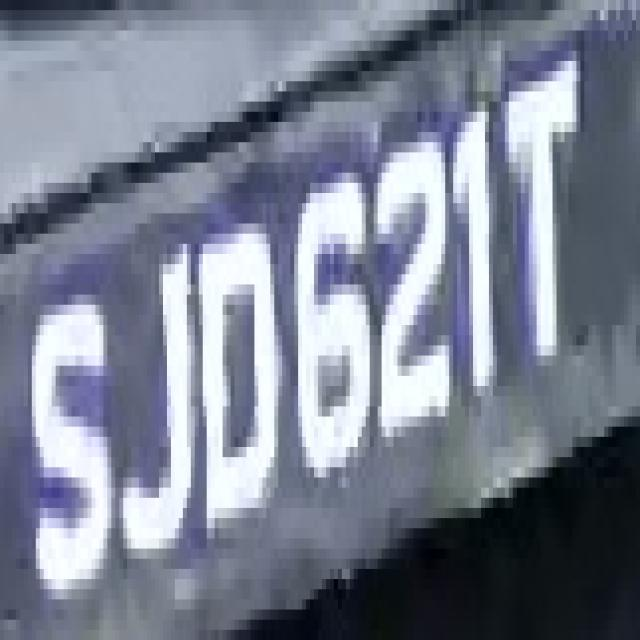1: (453, 81, 513, 447)
2: (358, 132, 449, 447)
6: (286, 173, 374, 528)
D: (187, 173, 282, 569)
J: (107, 213, 207, 590)
S: (24, 233, 115, 610)
T: (493, 71, 596, 376)
